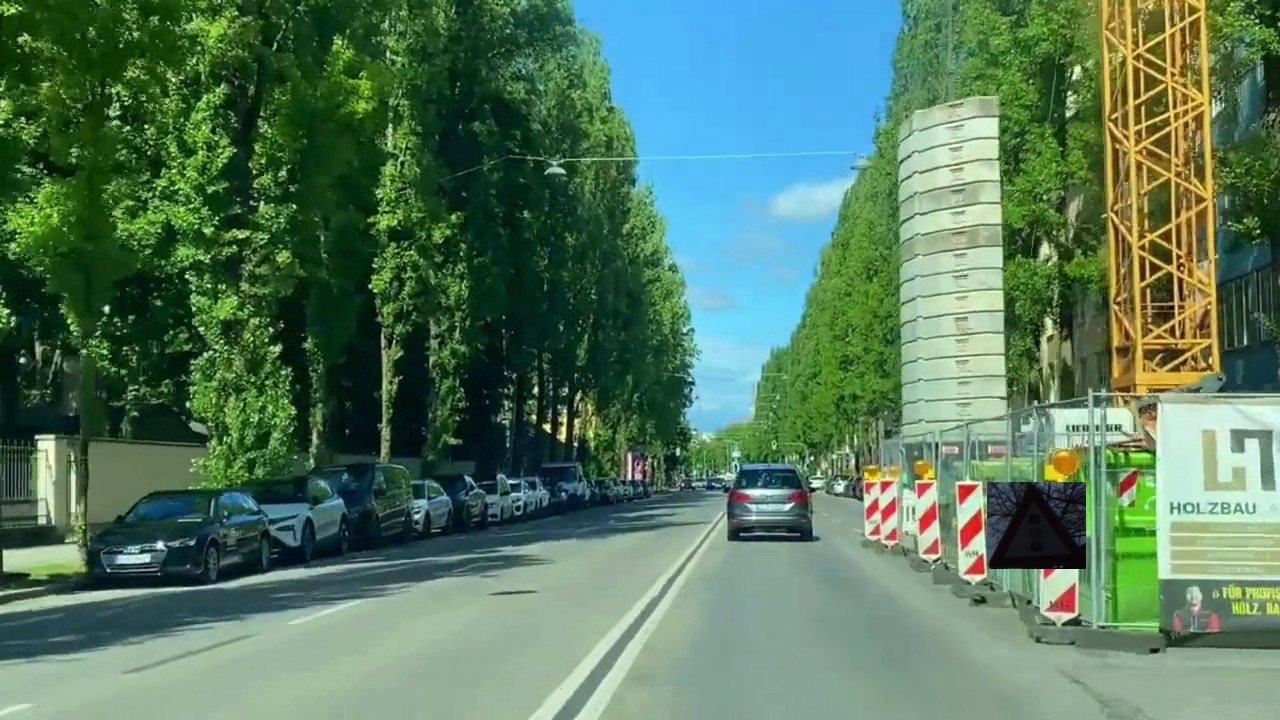Signals: (987, 482, 1086, 569)
